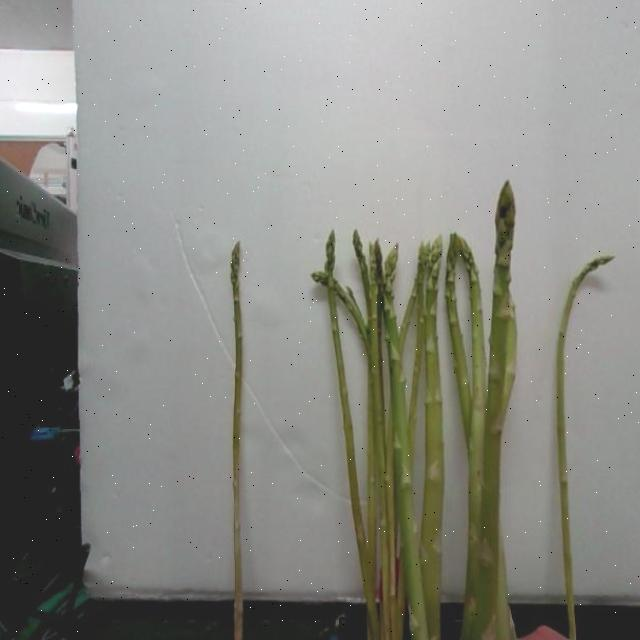aspargus: (555, 255, 616, 640), (479, 184, 520, 640), (226, 244, 244, 640)
